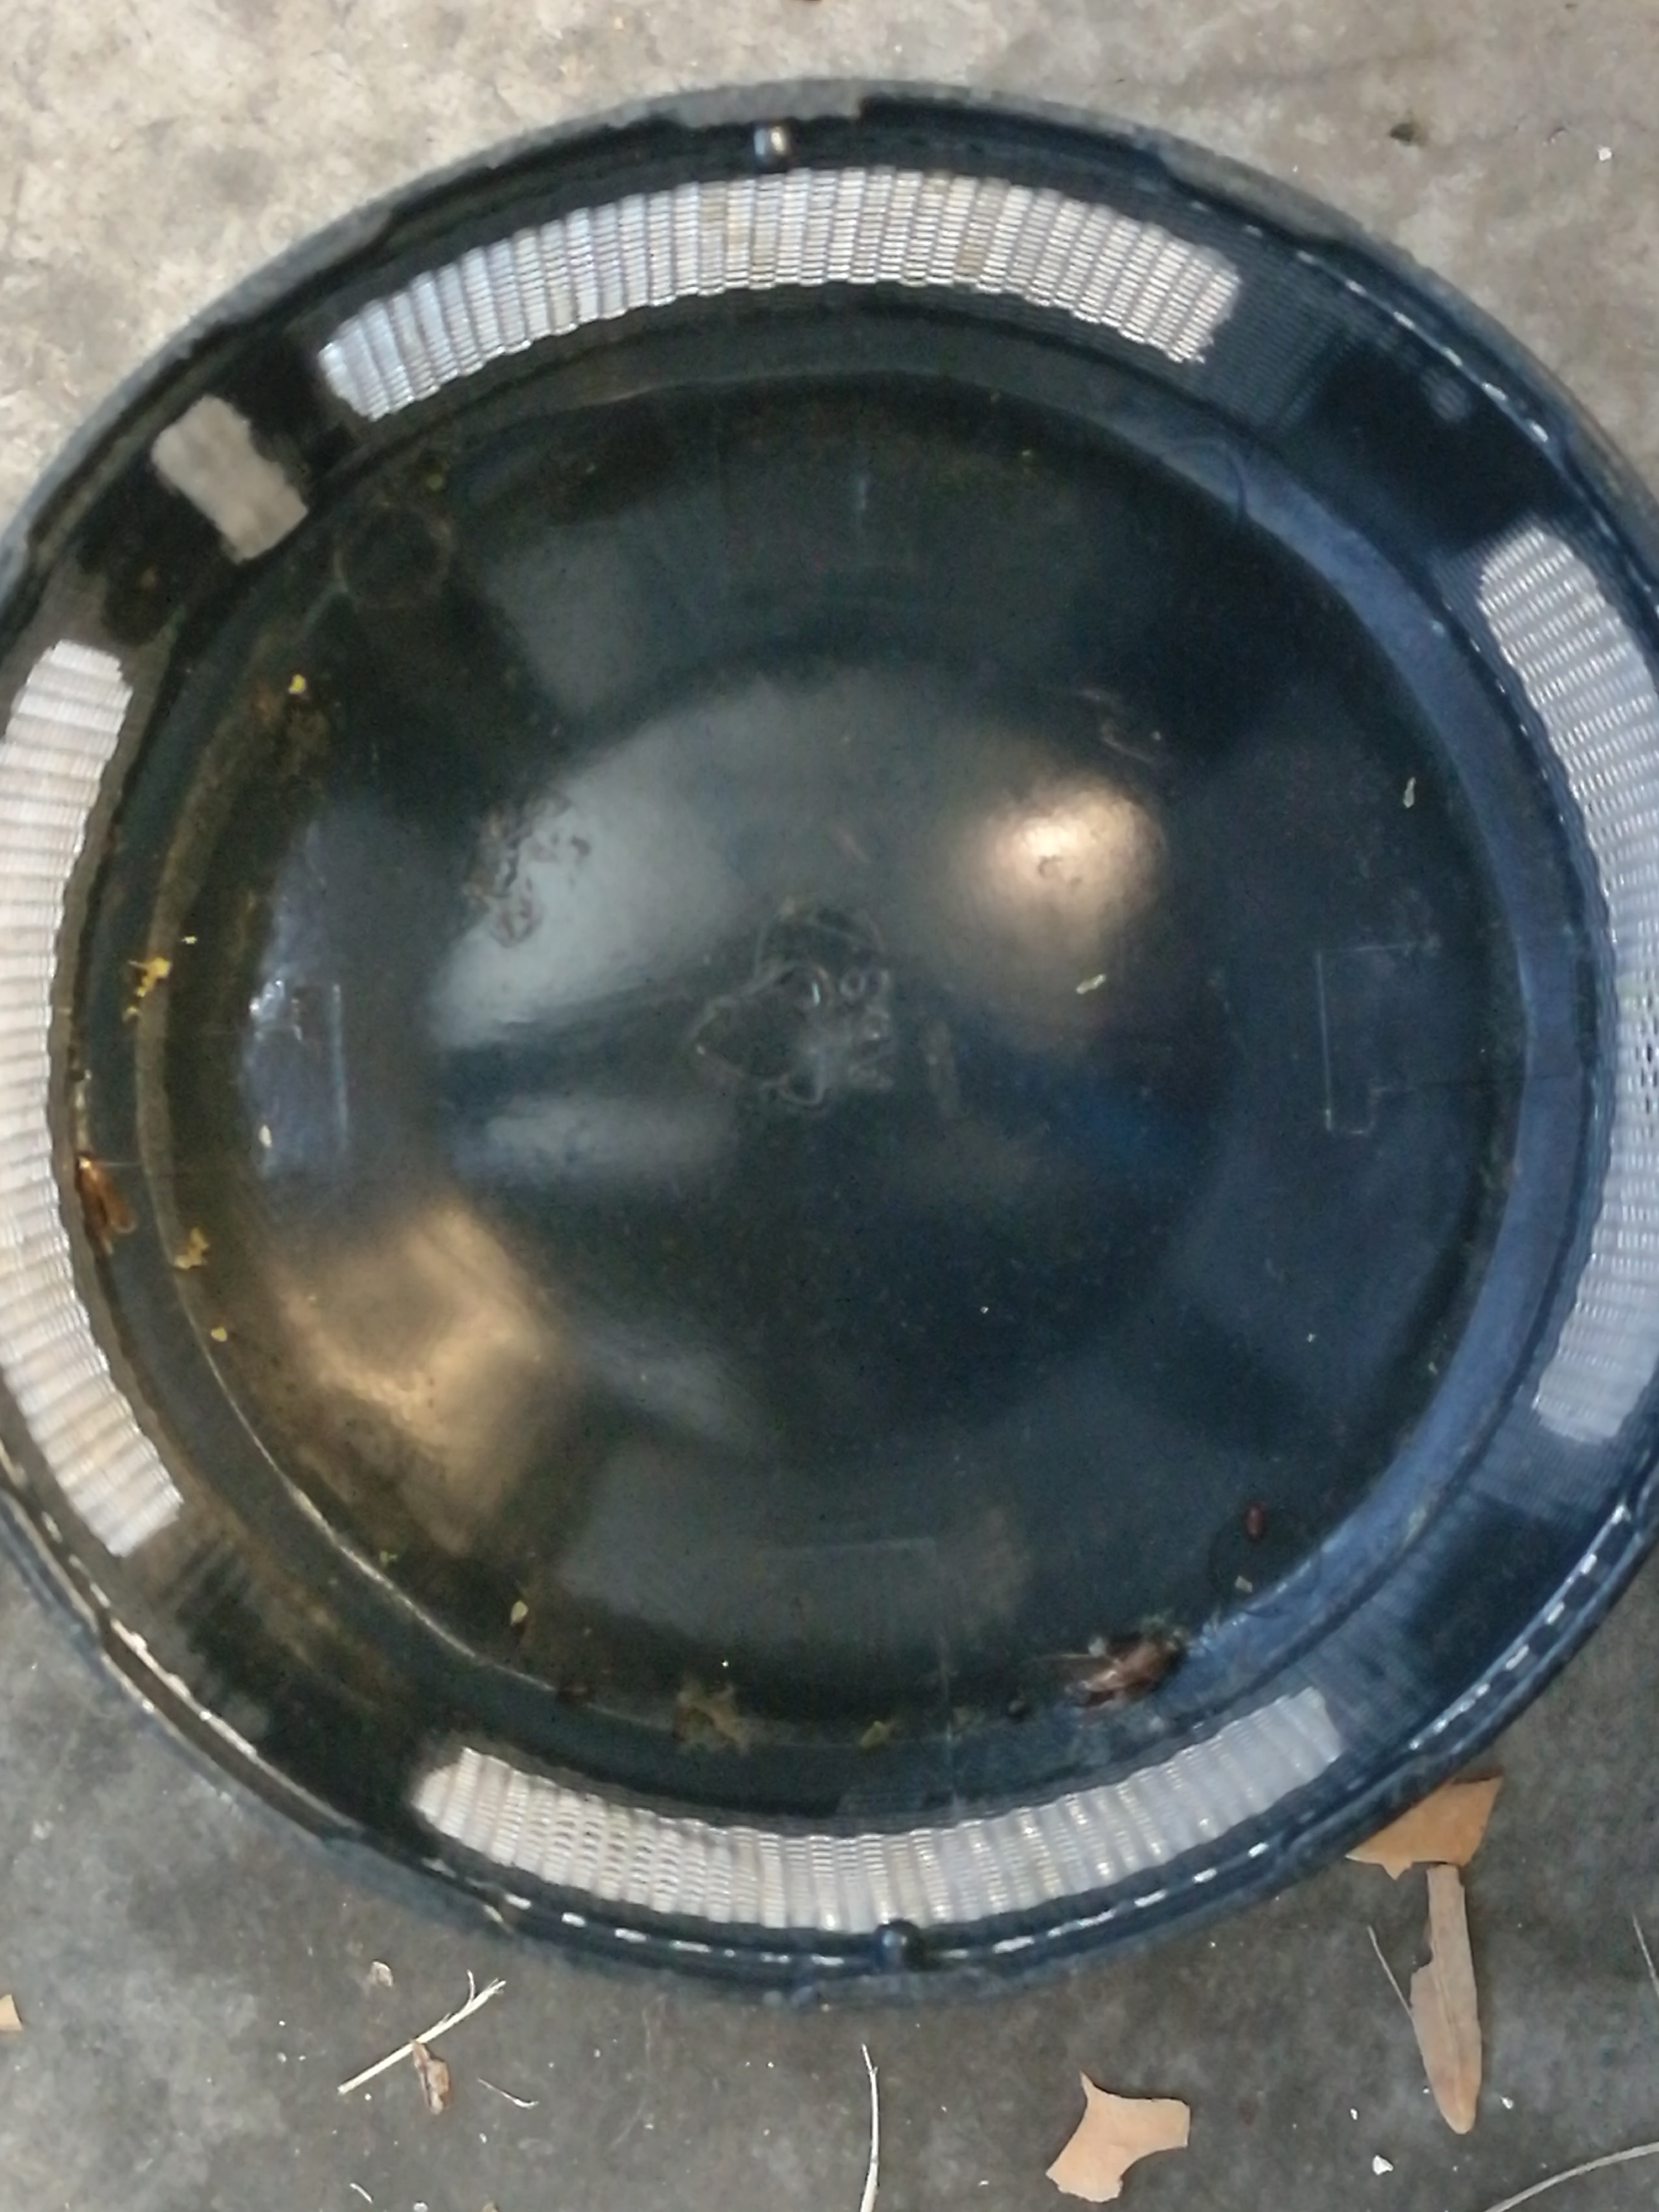beetle: (1077, 1637, 1180, 1689)
moth: (77, 1155, 134, 1256)
